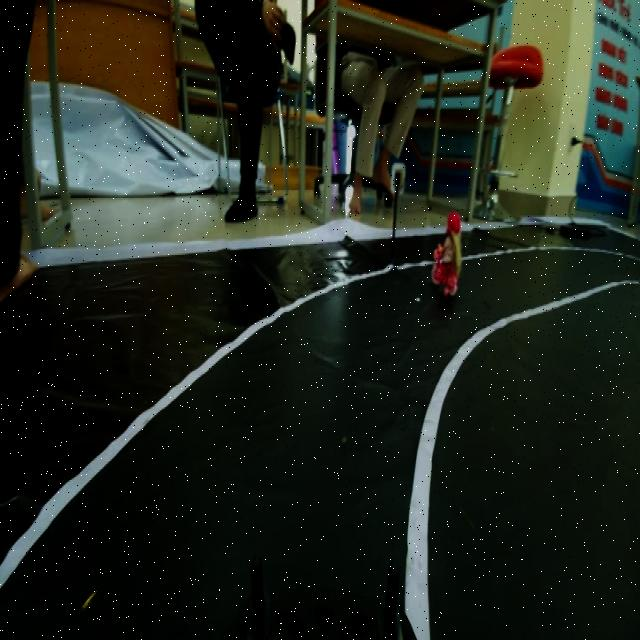pedestrian: (429, 206, 466, 318)
